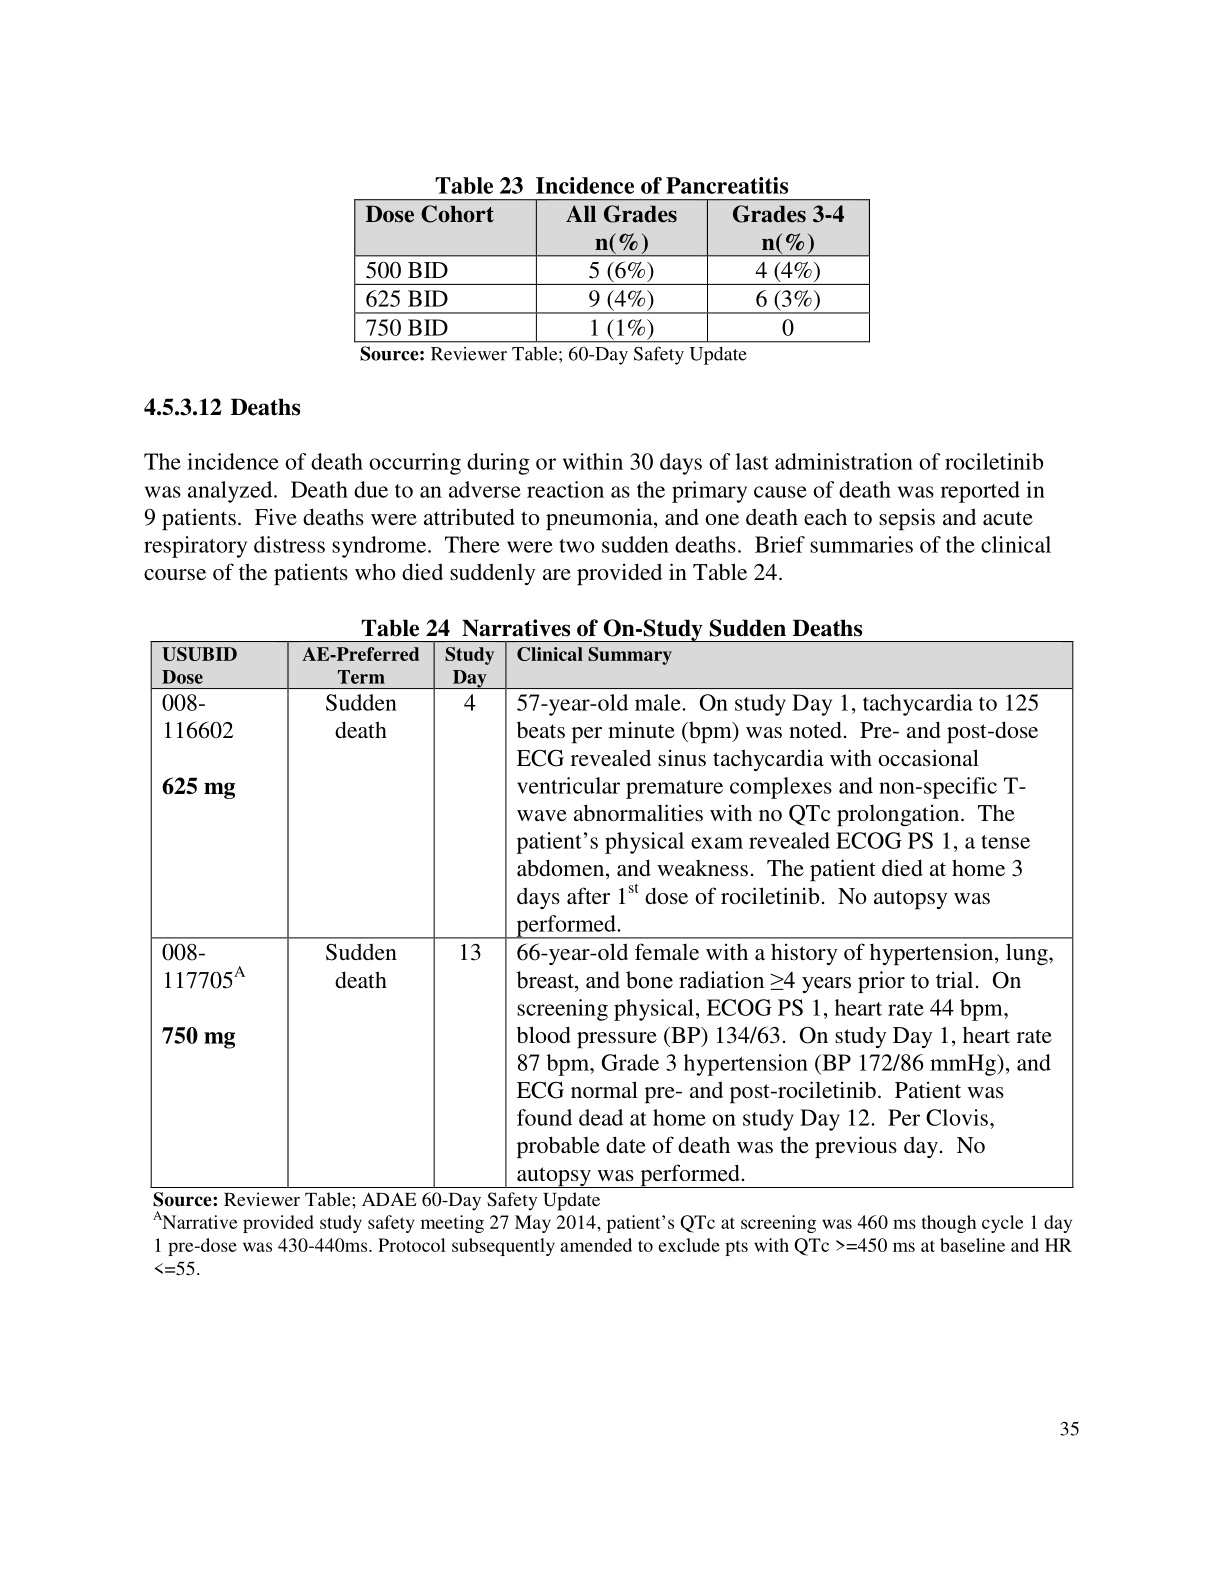full_lined: (149, 640, 1074, 1189), (354, 198, 870, 343)
